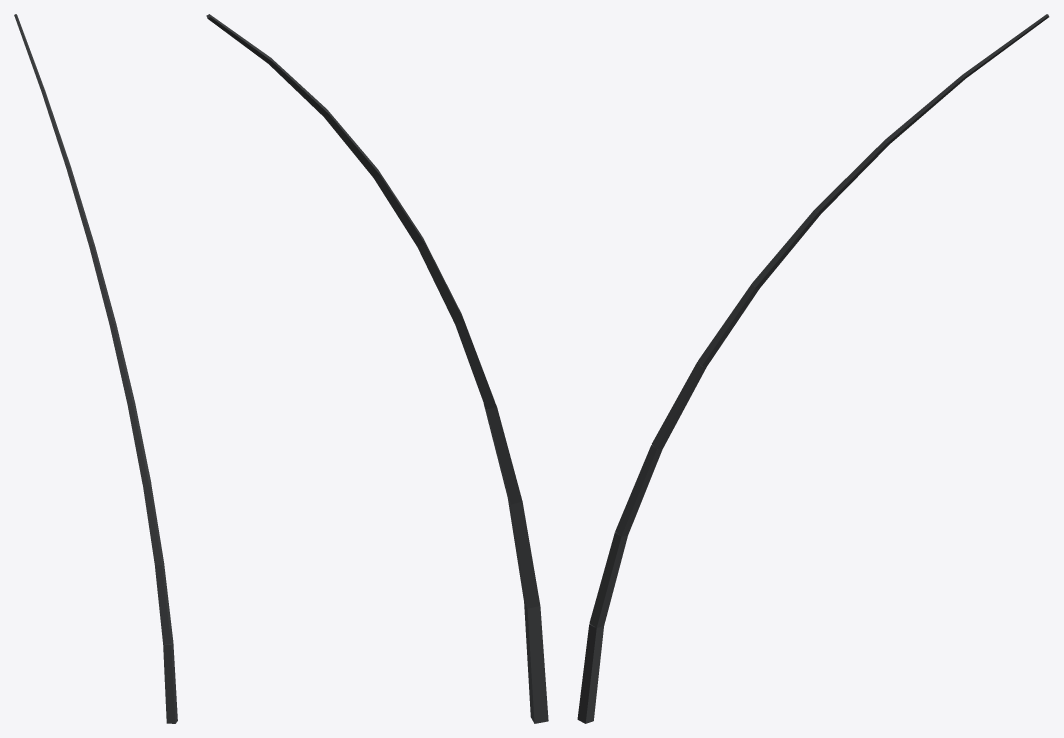
The model's file is prc25_antenna.glb.
3 views of the same model, side by side, from view 1: azimuth 30°, elevation 25°; view 2: azimuth 150°, elevation 25°; view 3: azimuth 270°, elevation 25° (orthographic). The views are drawn at different scales.
Visible parts, largest first — view 1: prc25_antenna; view 2: prc25_antenna; view 3: prc25_antenna.
Boxes of the visible parts, x1=… form: prc25_antenna: x1=14, y1=14, x2=177, y2=723; prc25_antenna: x1=206, y1=14, x2=548, y2=723; prc25_antenna: x1=577, y1=14, x2=1049, y2=723.
Size of the model in its own units: 0.0637 by 1.07 by 0.6327.
1 material, 1 textured.
